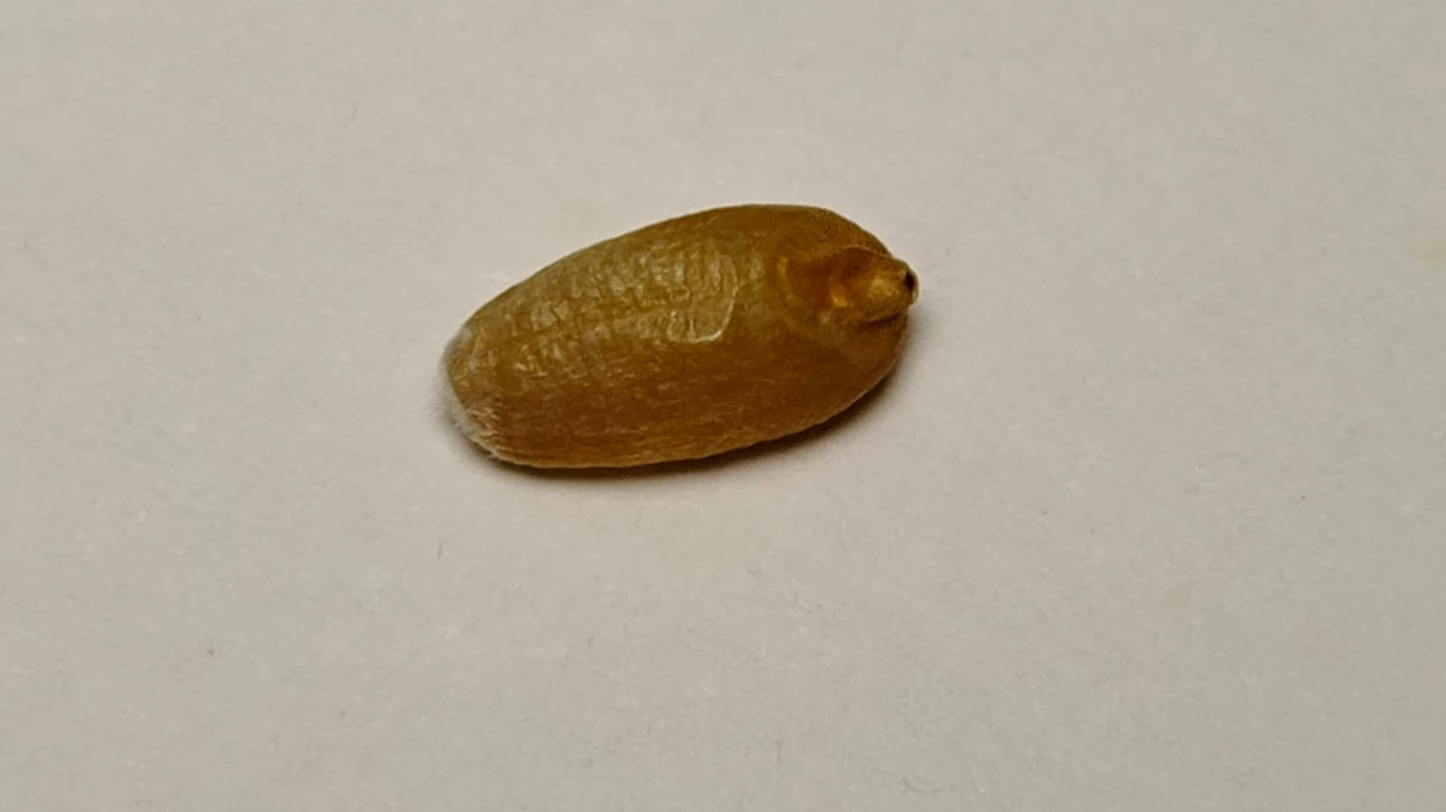healthy: (446, 203, 917, 468)
